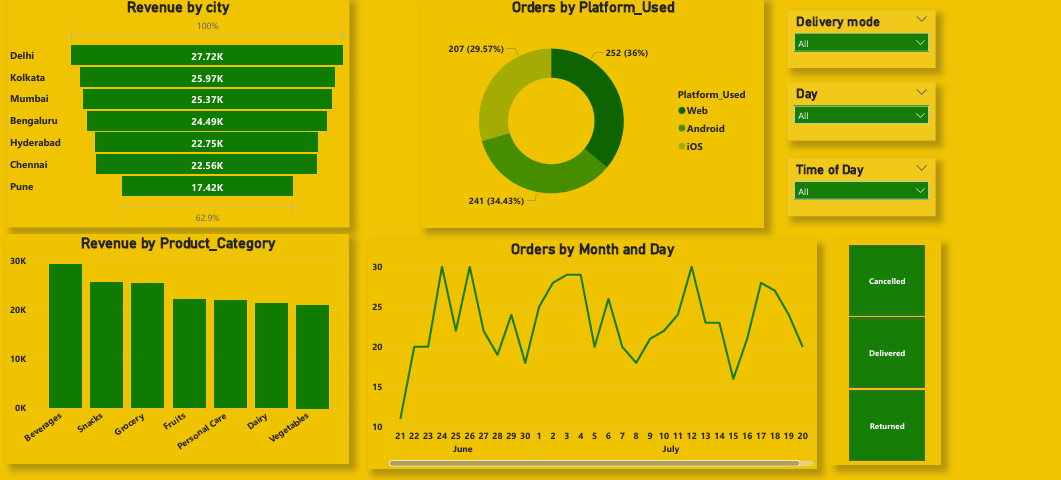

The page's visual inventory and layout, read from the dashboard file:
{"tool":"powerbi","page":{"name":"visuals","canvas":[1580,720],"ordinal":2},"visuals":[{"type":"funnel","title":"Revenue by city","fields":{"Category":["blinkit_metro_orders1.City"],"Y":["Sum(blinkit_metro_orders1.Final_Amount)"]},"box":[10.5,0,509.2,340.6],"z":0},{"type":"columnChart","title":"Revenue by Product_Category","fields":{"Category":["blinkit_metro_orders1.Product_Category"],"Y":["Sum(blinkit_metro_orders1.Final_Amount)"]},"box":[11,351,509,341],"z":1000},{"type":"donutChart","title":"Orders by Platform_Used","fields":{"Category":["blinkit_metro_orders1.Platform_Used"],"Y":["CountNonNull(blinkit_metro_orders1.Order_ID)"]},"box":[626.8,0,509.2,340.6],"z":2000},{"type":"lineChart","title":"Orders by Month and Day","fields":{"Y":["CountNonNull(blinkit_metro_orders1.Order_ID)"],"Category":["blinkit_metro_orders1.Order_Date.Variation.Date Hierarchy.Month","blinkit_metro_orders1.Order_Date.Variation.Date Hierarchy.Day"]},"box":[548,360,666,340],"z":3000},{"type":"slicer","fields":{"Values":["blinkit_metro_orders1.Delivery_Mode"]},"box":[1170,18,220,86],"z":4000},{"type":"slicer","fields":{"Values":["blinkit_metro_orders1.Delivery_Status"]},"box":[1236,360,162,334],"z":5000},{"type":"slicer","fields":{"Values":["blinkit_metro_orders1.Day Name"]},"box":[1170,126,220,86],"z":6000},{"type":"slicer","fields":{"Values":["blinkit_metro_orders1.Time_of_Day"]},"box":[1170,238,220,86],"z":7000}]}

Visuals, with their boxes in screenshot pixels (x1, y1, x2, y2), scaled from the page's 1580x720 canvas onto the 1061x480 screenshot:
"Revenue by city" funnel: 7 0 349 227
"Revenue by Product_Category" columnChart: 7 234 349 461
"Orders by Platform_Used" donutChart: 421 0 763 227
"Orders by Month and Day" lineChart: 368 240 815 467
slicer - blinkit_metro_orders1.Delivery_Mode: 786 12 933 69
slicer - blinkit_metro_orders1.Delivery_Status: 830 240 939 463
slicer - blinkit_metro_orders1.Day Name: 786 84 933 141
slicer - blinkit_metro_orders1.Time_of_Day: 786 159 933 216
